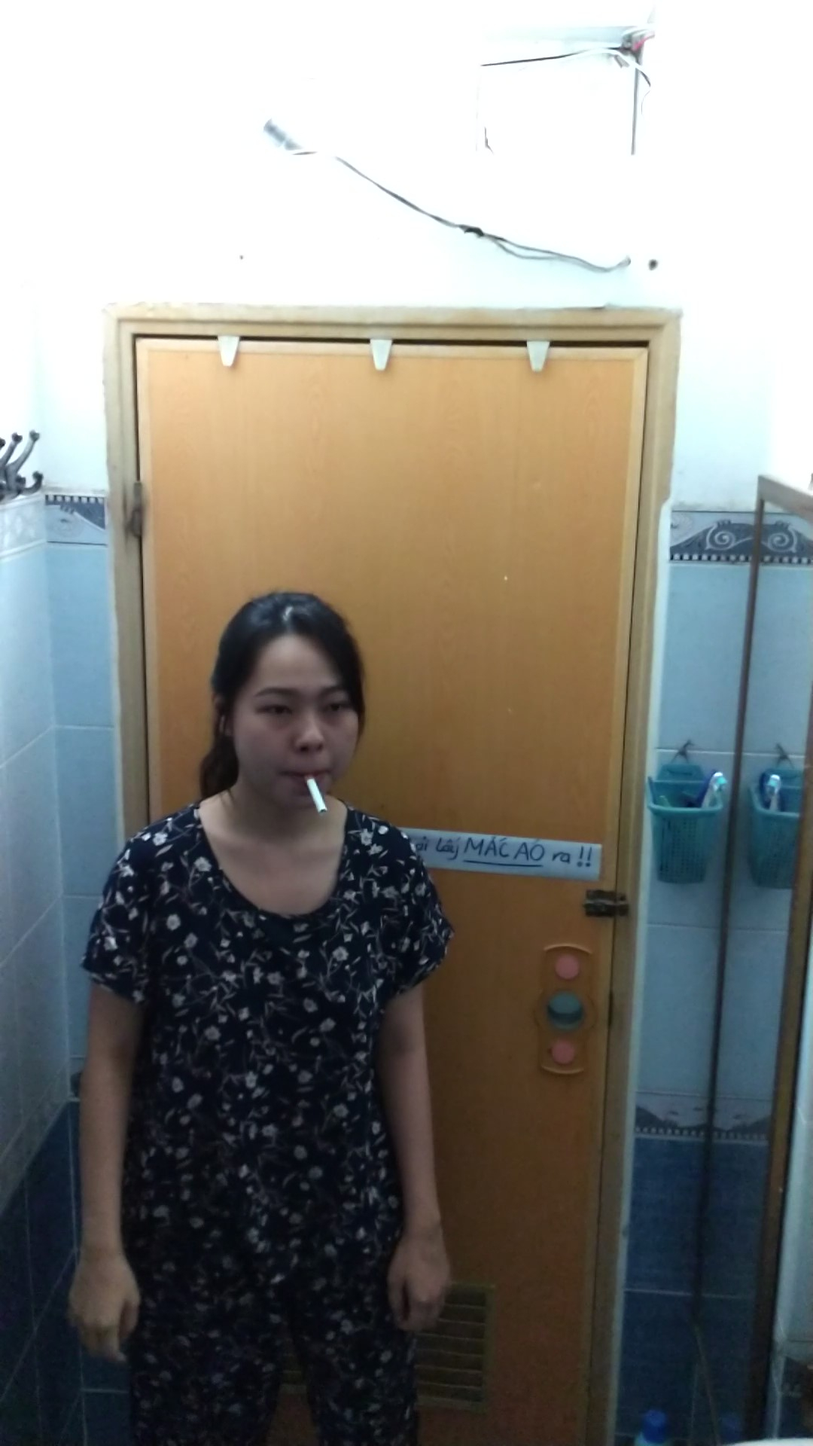cigarette: (303, 774, 328, 819)
person: (62, 573, 462, 1446)
